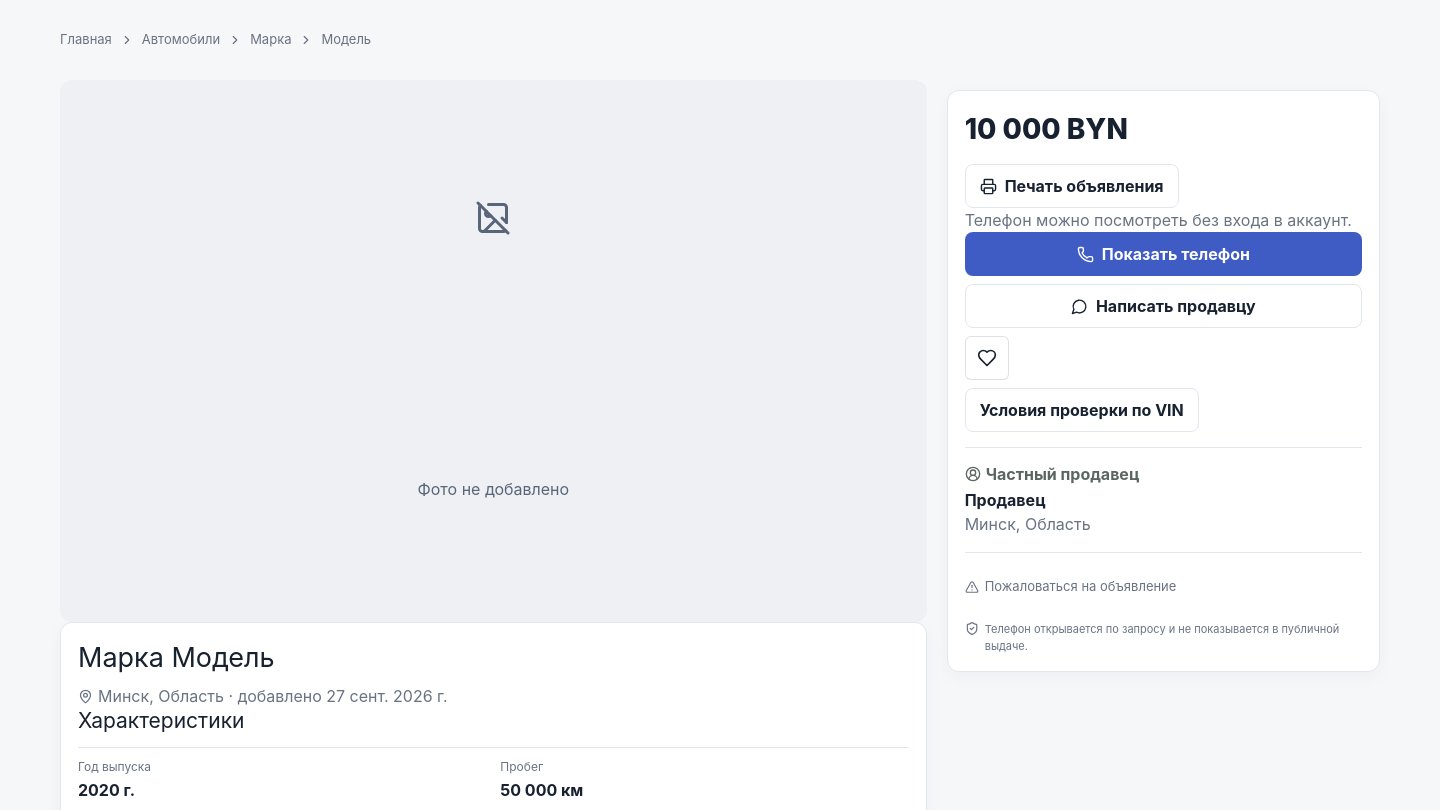
contact reveal › exposes seller contact actions in an accessible group and reveals the phone on request
Click the button with class "contact-reveal" at (1163,254), box [965,232,1362,276]
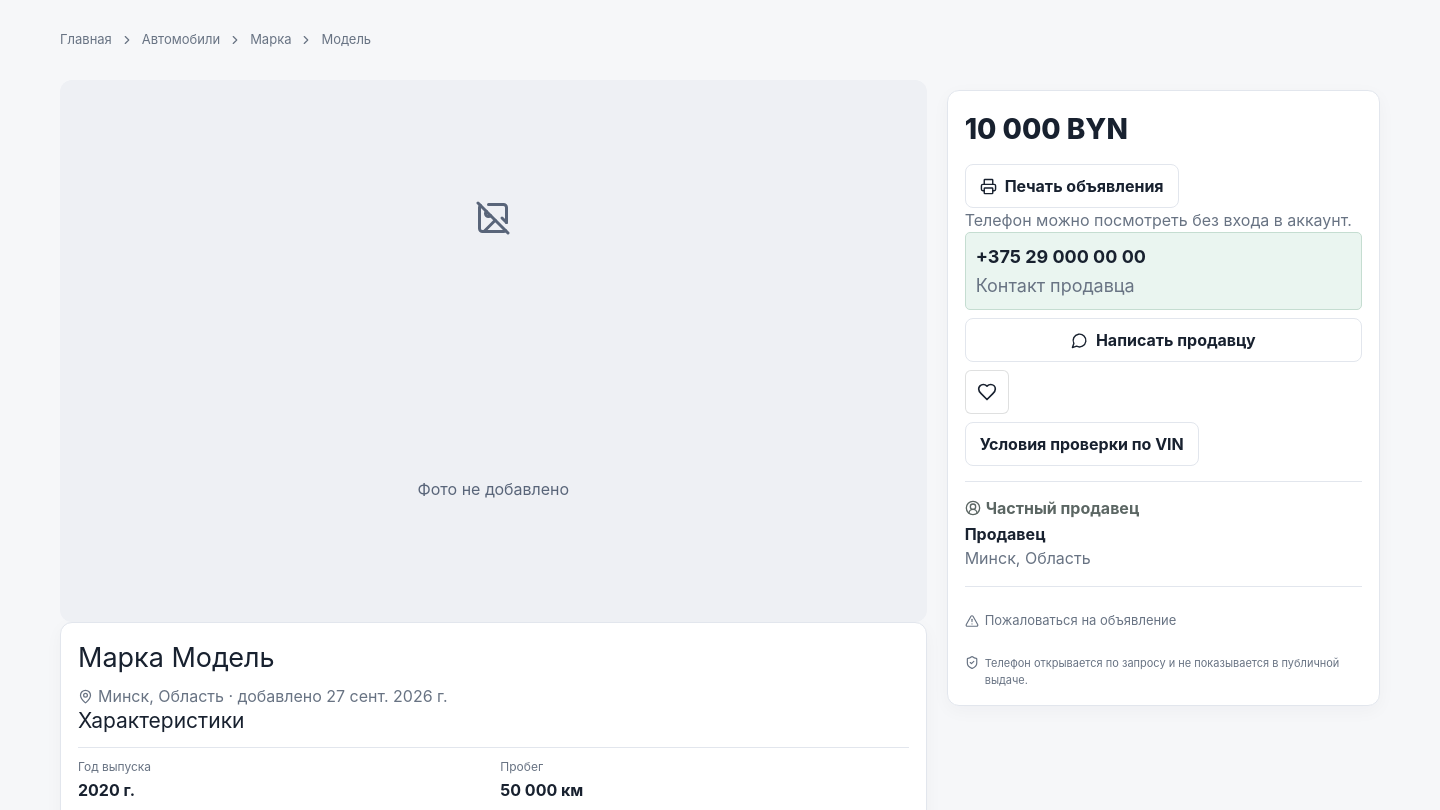
Expected: the element named "Связаться с продавцом" shows "+375 29 000 00 00", [976,246,1146,267]
